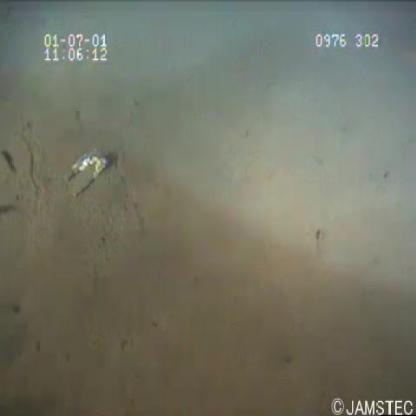Rác: (61, 144, 117, 208)
